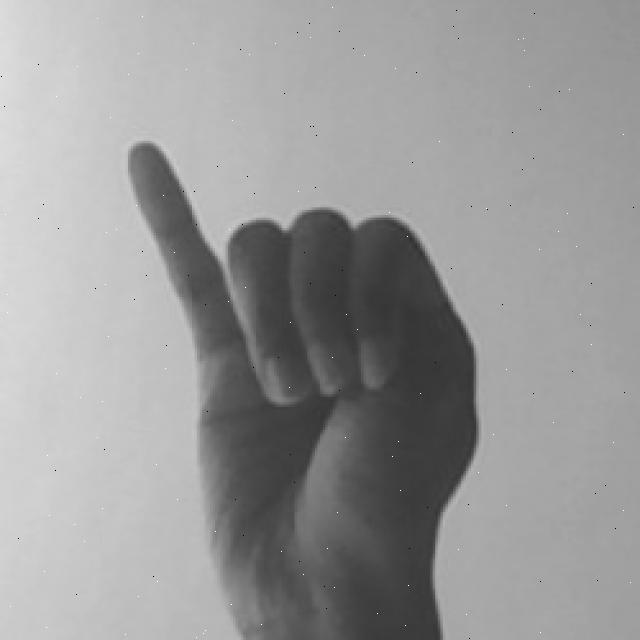I: (121, 135, 493, 640)
